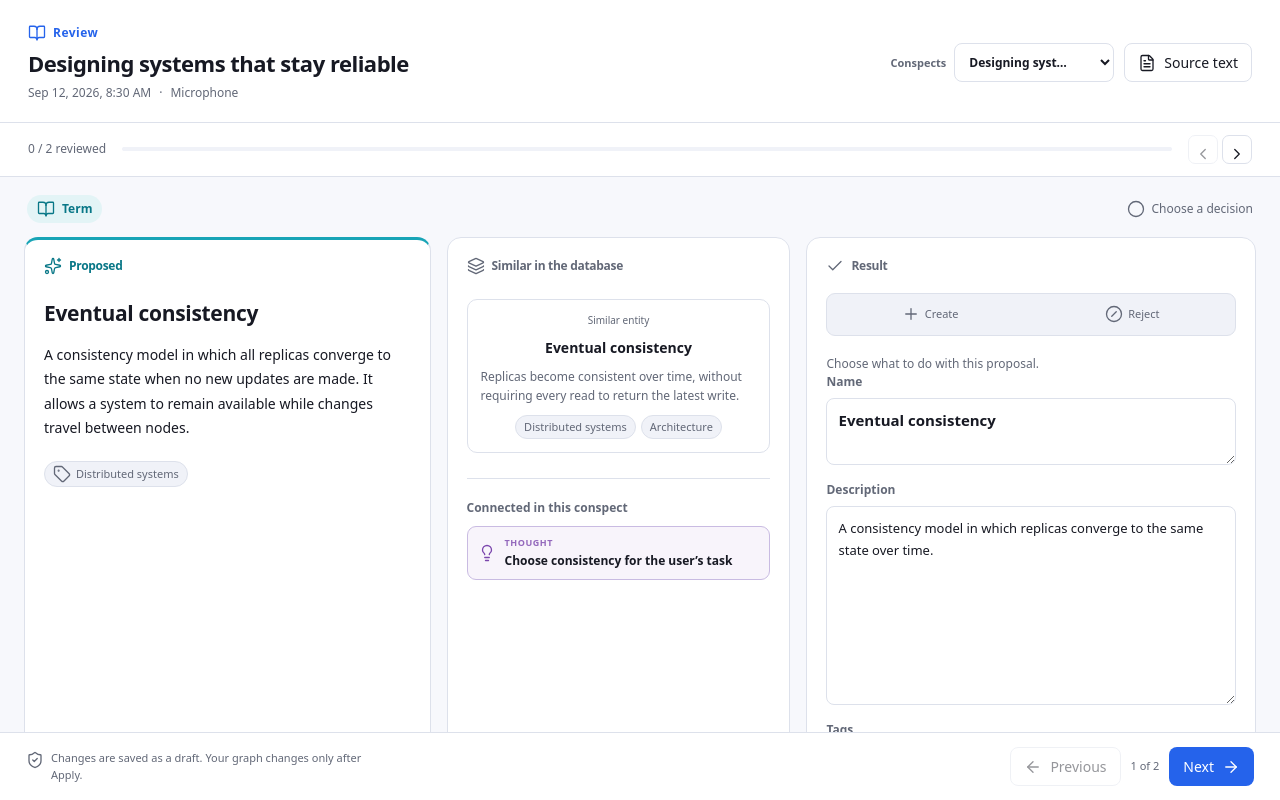
it: Review flow › lets a non-exact analogue enter and leave focus
Check: the text box labelled "Name" is shown, box [826,398,1236,465]
Check: the button "Create" is shown, box [830,297,1030,332]
Click the button that starts with "Similar entity". click: (618, 376)
box: [466,299,770,453]
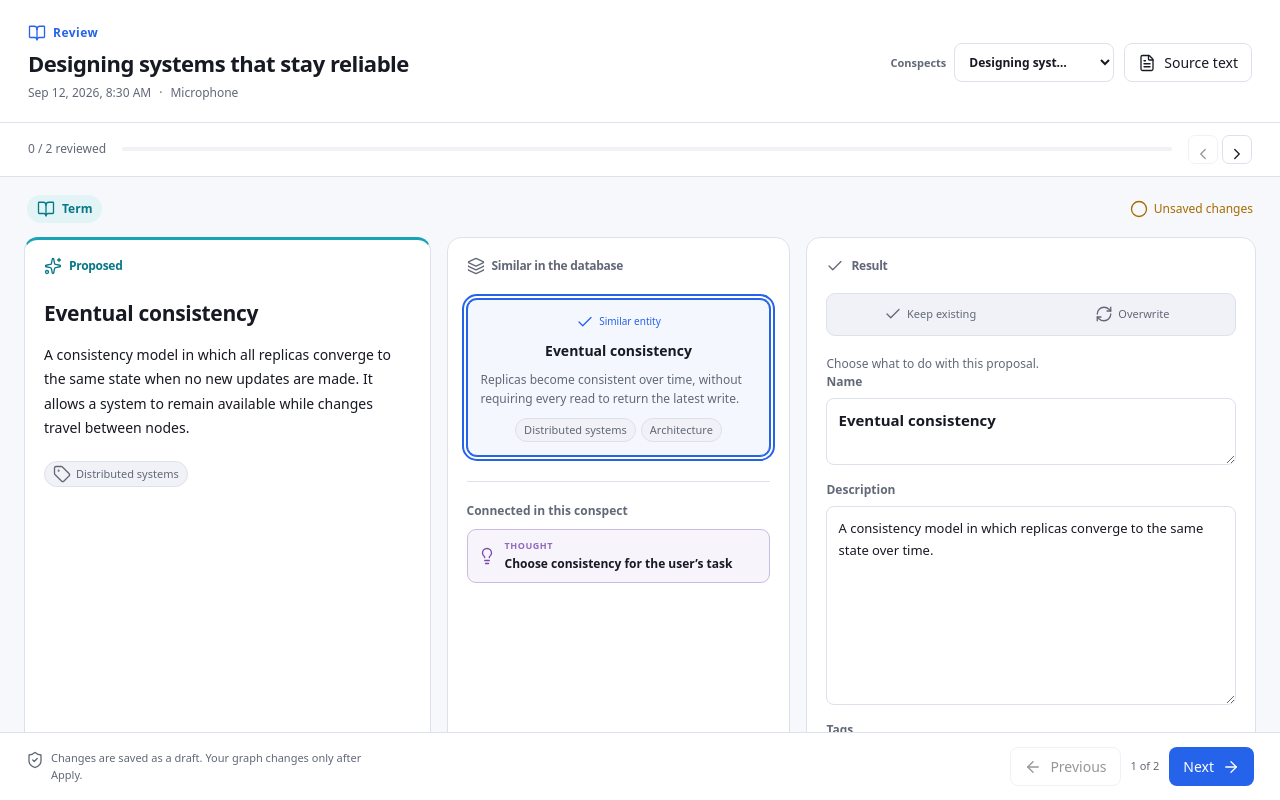
Check: the button "Overwrite" is shown, box [1033,297,1232,332]
Click the button that starts with "Similar entity". click: (618, 377)
box: [466,299,770,456]
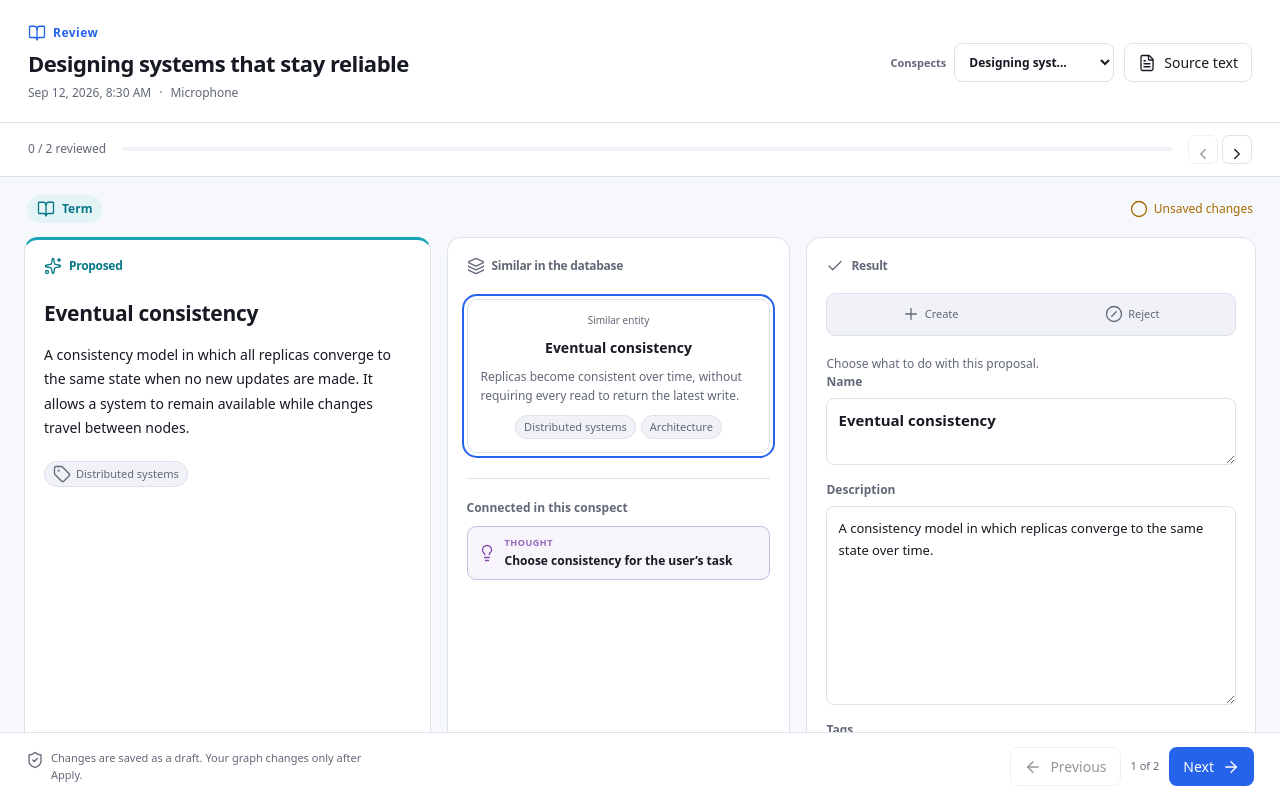
Check: the button "Reject" is shown, box [1033,297,1232,332]
